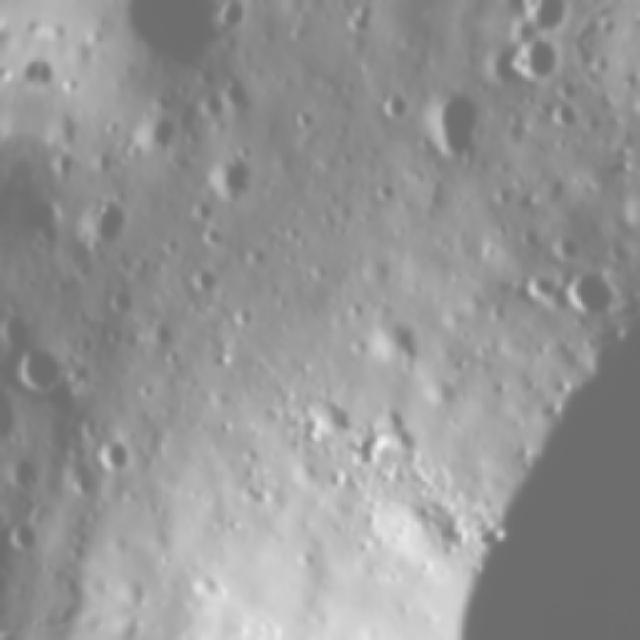crater: (94, 0, 246, 82), (417, 76, 491, 175), (72, 180, 139, 257), (501, 28, 573, 92), (200, 142, 266, 208), (366, 308, 432, 368), (560, 258, 623, 320), (12, 340, 73, 402), (89, 428, 148, 482), (128, 101, 187, 154), (0, 375, 34, 451), (514, 264, 566, 305), (543, 225, 589, 267), (0, 516, 25, 592), (7, 514, 50, 558), (341, 0, 382, 45), (374, 81, 414, 127), (0, 305, 40, 350), (544, 91, 582, 132), (207, 0, 249, 35), (104, 281, 144, 316), (34, 46, 60, 96), (618, 182, 640, 232), (503, 27, 546, 45), (0, 497, 15, 540)
